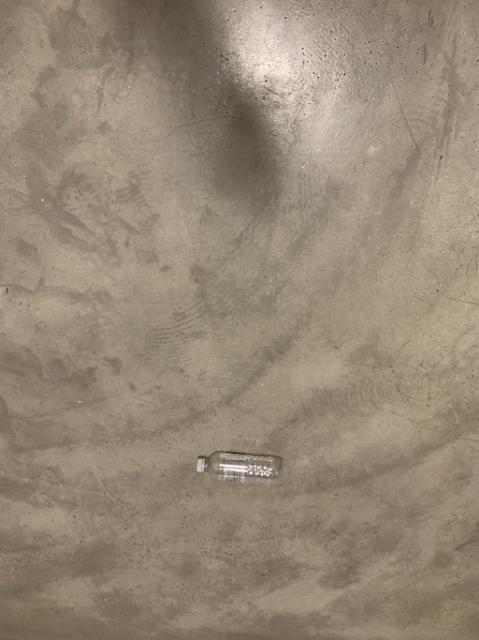plastic: (196, 450, 281, 483)
